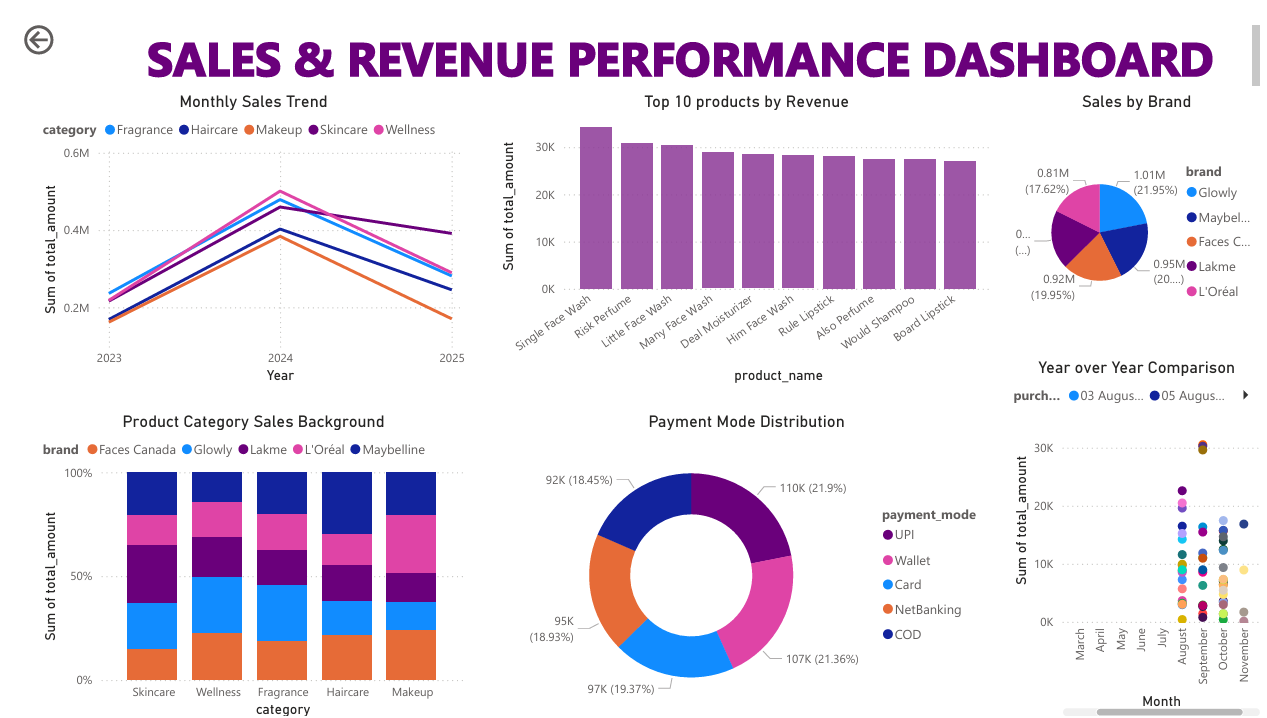

What the dashboard file says about the page in this screenshot:
{"tool":"powerbi","page":{"name":"Page 1","canvas":[1280,720],"ordinal":0},"visuals":[{"type":"lineChart","title":"Monthly Sales Trend","fields":{"Category":["transactions.purchase_date.Variation.Date Hierarchy.Year","transactions.purchase_date.Variation.Date Hierarchy.Quarter","transactions.purchase_date.Variation.Date Hierarchy.Month","transactions.purchase_date.Variation.Date Hierarchy.Day"],"Y":["Sum(transactions.total_amount)"],"Series":["products.category"]},"box":[19.2,72.7,443.3,304.7],"z":0},{"type":"actionButton","box":[0,0,100,40],"z":1000},{"type":"hundredPercentStackedColumnChart","title":"Product Category Sales Background","fields":{"Category":["products.category"],"Y":["Sum(transactions.total_amount)"],"Series":["products.brand"]},"box":[19.2,400.7,443.3,319.8],"z":2000},{"type":"clusteredColumnChart","title":"Top 10 products by Revenue","fields":{"Category":["products.product_name"],"Y":["Sum(transactions.total_amount)"]},"box":[488.5,72.7,516,304.7],"z":3000},{"type":"donutChart","title":"Payment Mode Distribution","fields":{"Y":["Sum(transactions.transaction_id)"],"Category":["transactions.payment_mode"]},"box":[488.5,400.7,516,319.8],"z":4000},{"type":"areaChart","title":"Year over Year Comparison","fields":{"Category":["transactions.purchase_date.Variation.Date Hierarchy.Month"],"Y":["Sum(transactions.total_amount)"],"Series":["transactions.purchase_date"]},"box":[1015.5,345.8,263.5,373.3],"z":5000},{"type":"pieChart","title":"Sales by Brand","fields":{"Category":["products.brand"],"Y":["Sum(transactions.total_amount)"]},"box":[1015.5,72.7,263.5,271.7],"z":6000},{"type":"textbox","box":[100.2,0,1178.8,72.7],"z":7000}]}

Visuals, with their boxes in screenshot pixels (x1, y1, x2, y2), scaled from the page's 1280x720 canvas onto the 1267x718 screenshot:
"Monthly Sales Trend" lineChart: 19, 72, 458, 376
actionButton: 0, 0, 99, 40
"Product Category Sales Background" hundredPercentStackedColumnChart: 19, 400, 458, 717
"Top 10 products by Revenue" clusteredColumnChart: 484, 72, 994, 376
"Payment Mode Distribution" donutChart: 484, 400, 994, 717
"Year over Year Comparison" areaChart: 1005, 345, 1266, 717
"Sales by Brand" pieChart: 1005, 72, 1266, 343
textbox: 99, 0, 1266, 72
